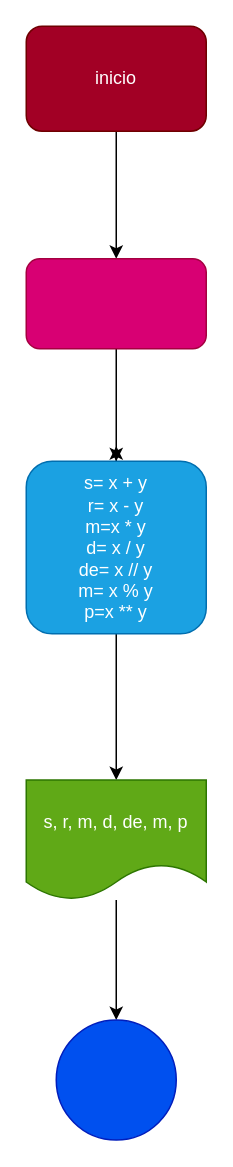
Image size: 233x1167. Some labels were removed from this diagram. The shapes that lost their labels are listed below. From the top down, each one's centre as x and y in pixels, then its label:
At [115,303]: "x,y".
At [115,1079]: "fin".
